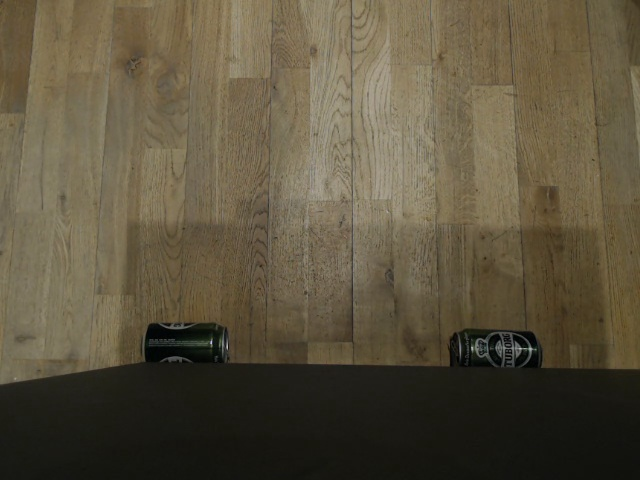beer: (447, 327, 545, 369), (140, 319, 228, 361)
